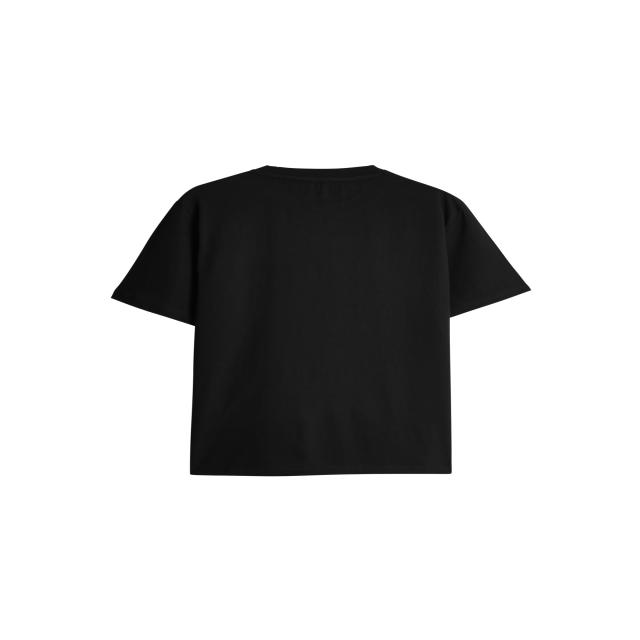shirt: (110, 165, 534, 475)
